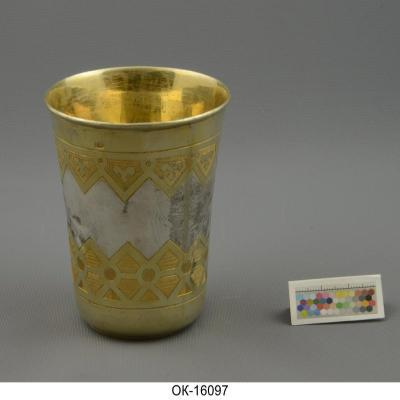dpi: (44, 67, 231, 343)
